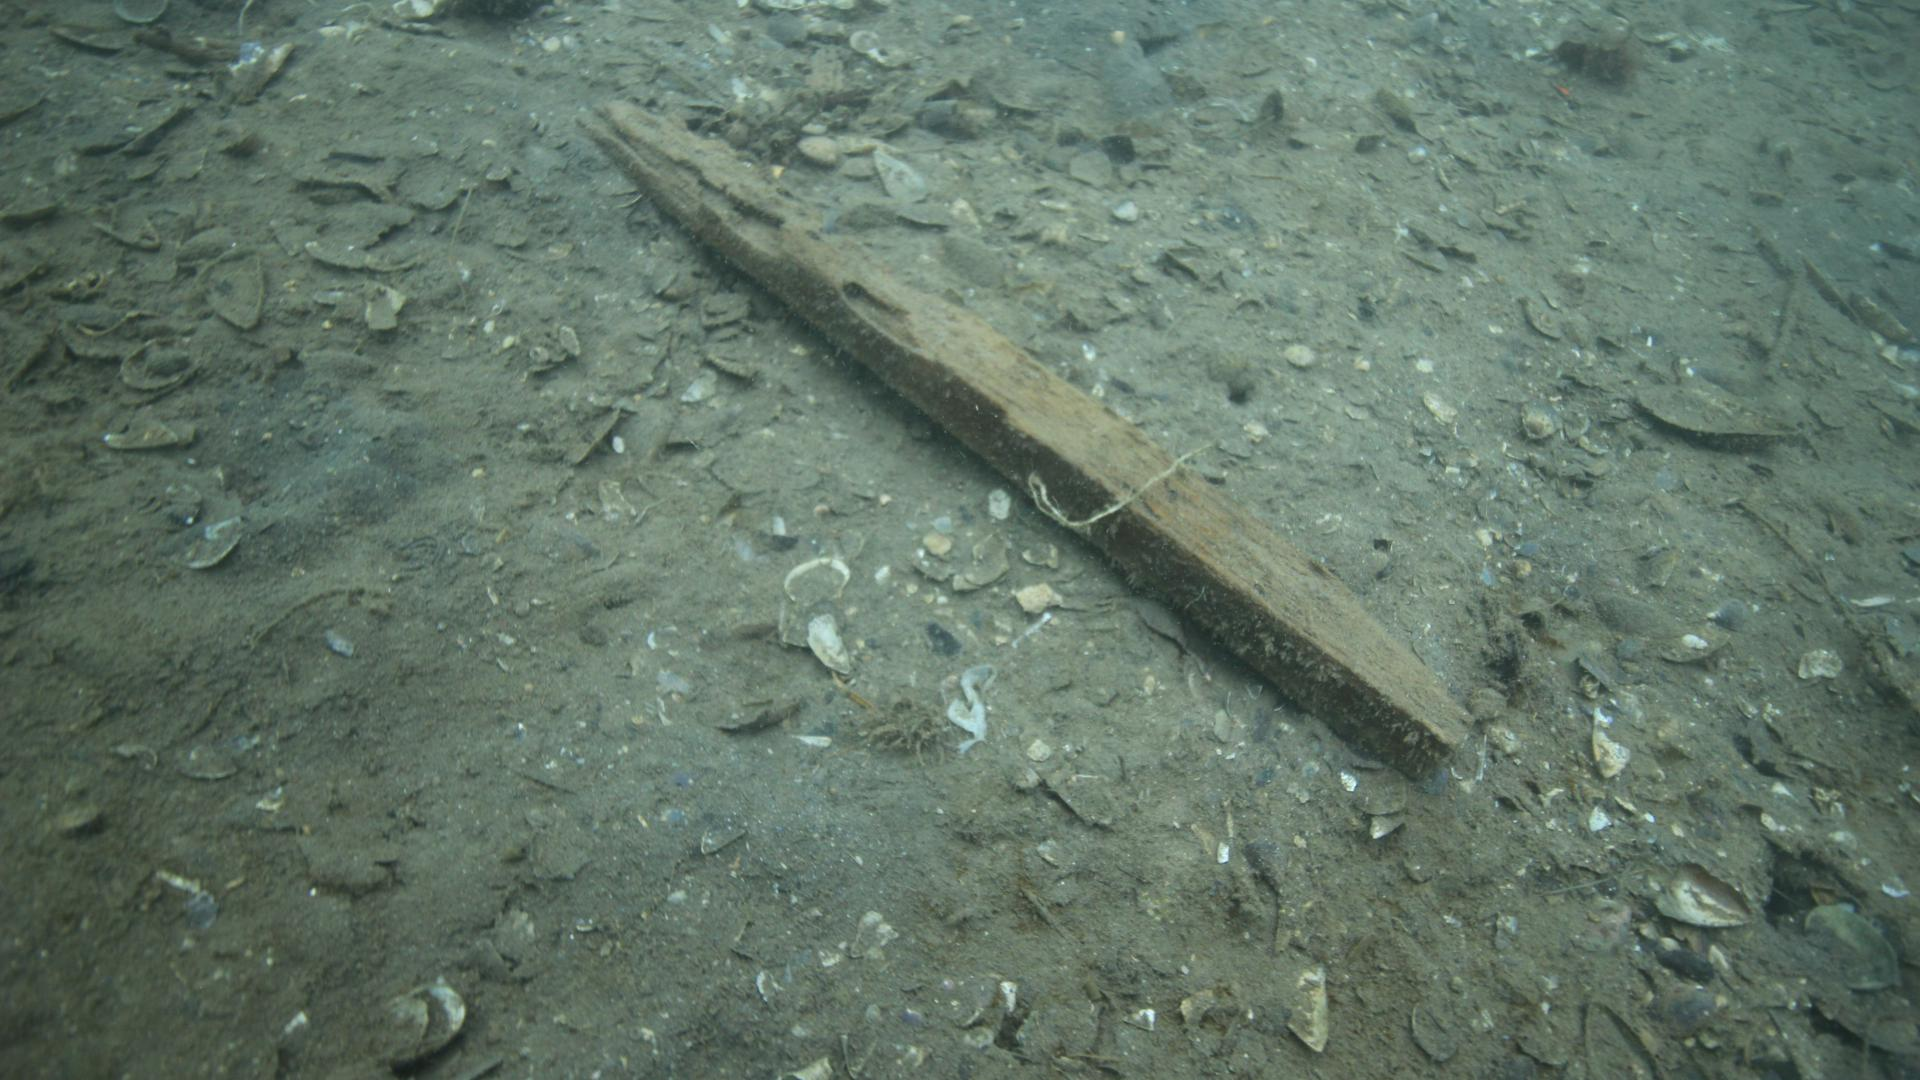wood: (570, 88, 1478, 783)
